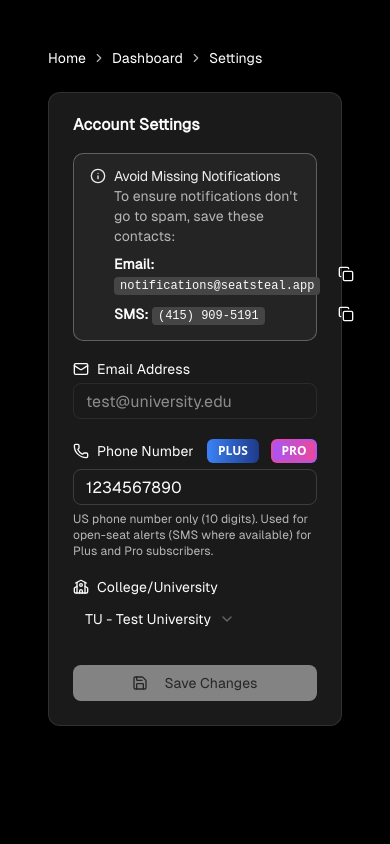
Settings Page › Phone Validation › strips non-digit characters from phone input
Type with dashes and parentheses
Type "(555) 123-4567" into the field labelled "Phone Number PLUS PRO".
click(195, 487); type("(555) 123-4567")  # box [73, 469, 317, 505]
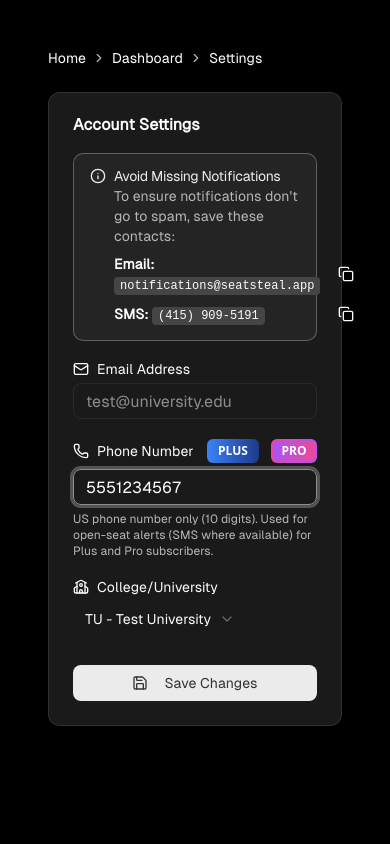
expect the field labelled "Phone Number PLUS PRO" holds "5551234567": met, box [73, 469, 317, 505]
